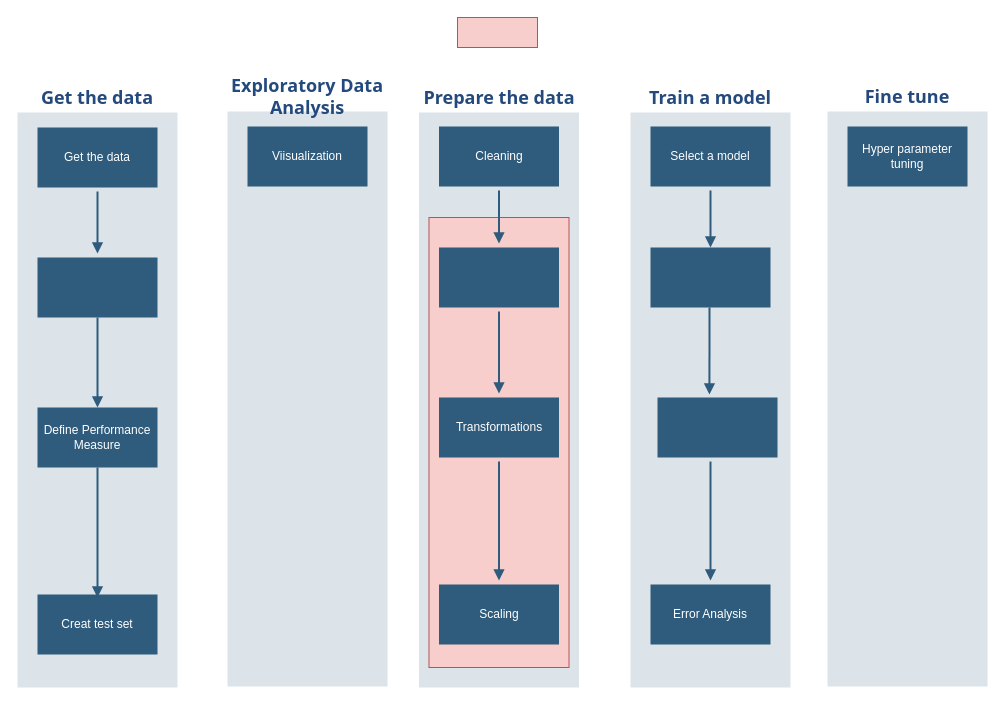
Some shapes in this 1004 by 705 pixel diagram are drawn without their labels. The shapes that lost their labels are listed below. From the top down, each one's centre as x and y in pixels, then its label:
At [497,32]: "Pipeline".
At [97,287]: "Have a look".
At [498,277]: "Handle Non-Numeric attributes".
At [710,277]: "Fit".
At [717,427]: "Validation and Cross Validation".
